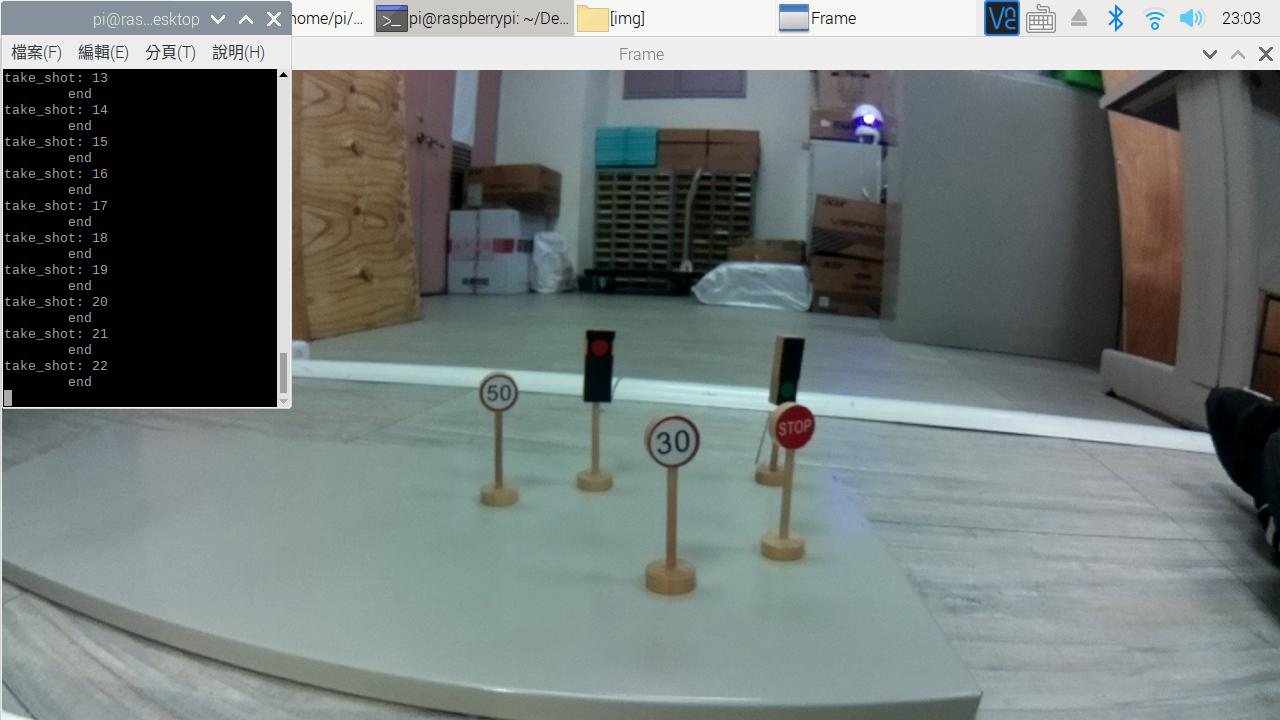Green: (772, 336, 801, 401)
Red: (585, 330, 612, 403)
Speed30: (646, 416, 703, 466)
Speed50: (480, 374, 514, 412)
Stop: (770, 405, 822, 444)
